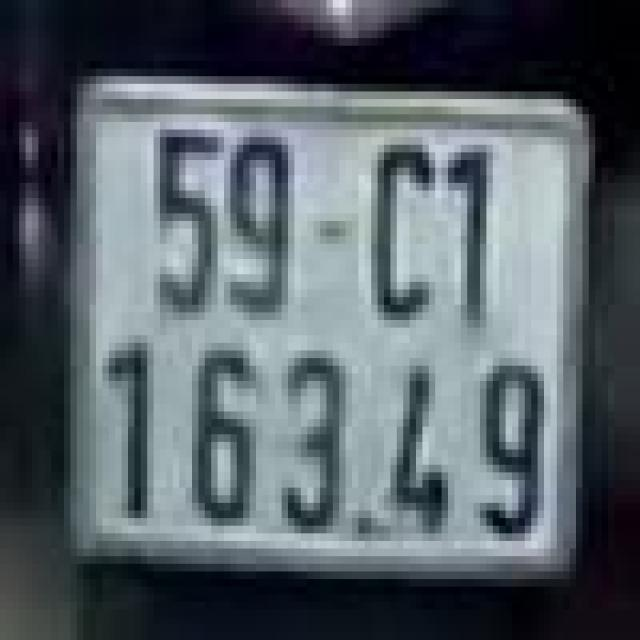1: (96, 324, 166, 506), (452, 130, 502, 335)
3: (278, 343, 349, 533)
4: (384, 343, 461, 548)
5: (147, 110, 230, 324)
6: (179, 324, 256, 529)
9: (464, 339, 554, 552), (227, 118, 298, 332)
C: (355, 126, 445, 339)
